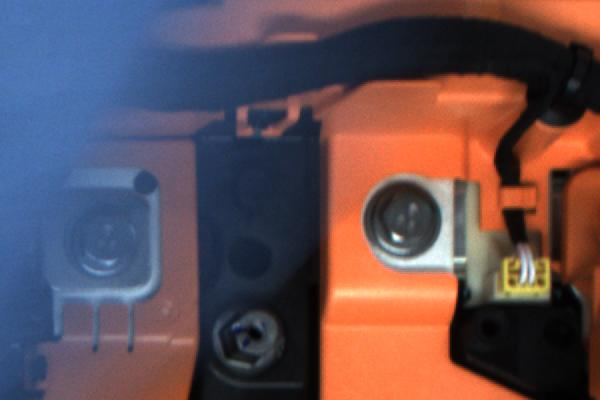nut_b: (361, 180, 458, 266)
